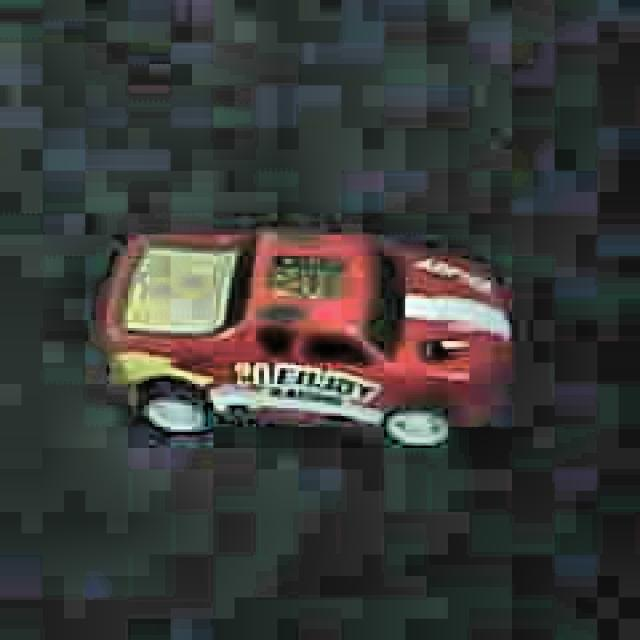car: (99, 221, 517, 459)
